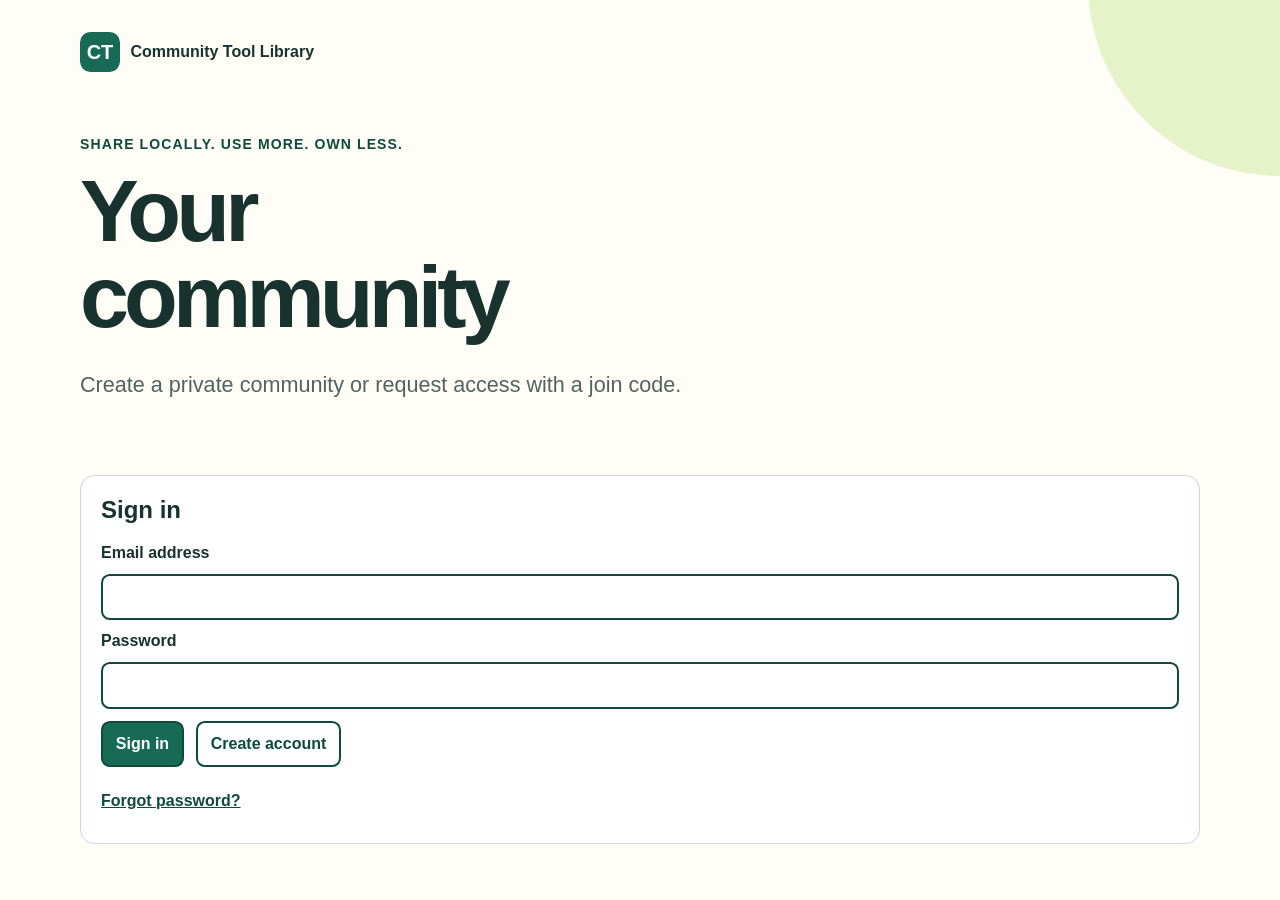
Test: CommunityPage › exposes an asynchronous authentication error as an alert
The width and height of the screenshot is (1280, 900).
In the field labelled "Email address": {"x": 640, "y": 597} [101, 574, 1179, 620], type "member@example.test"
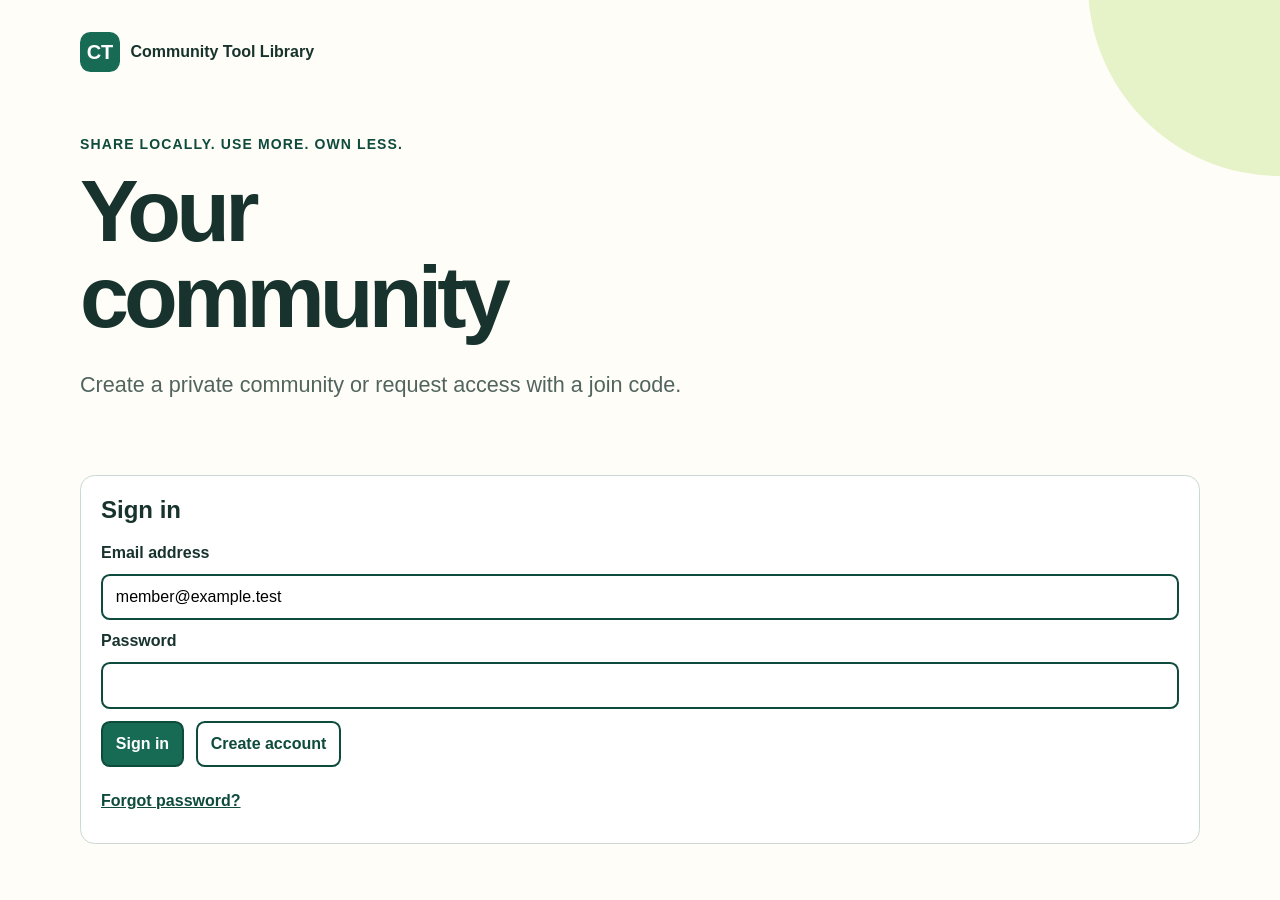
In the password field labelled "Password": {"x": 640, "y": 686} [101, 662, 1179, 709], type "synthetic-password"
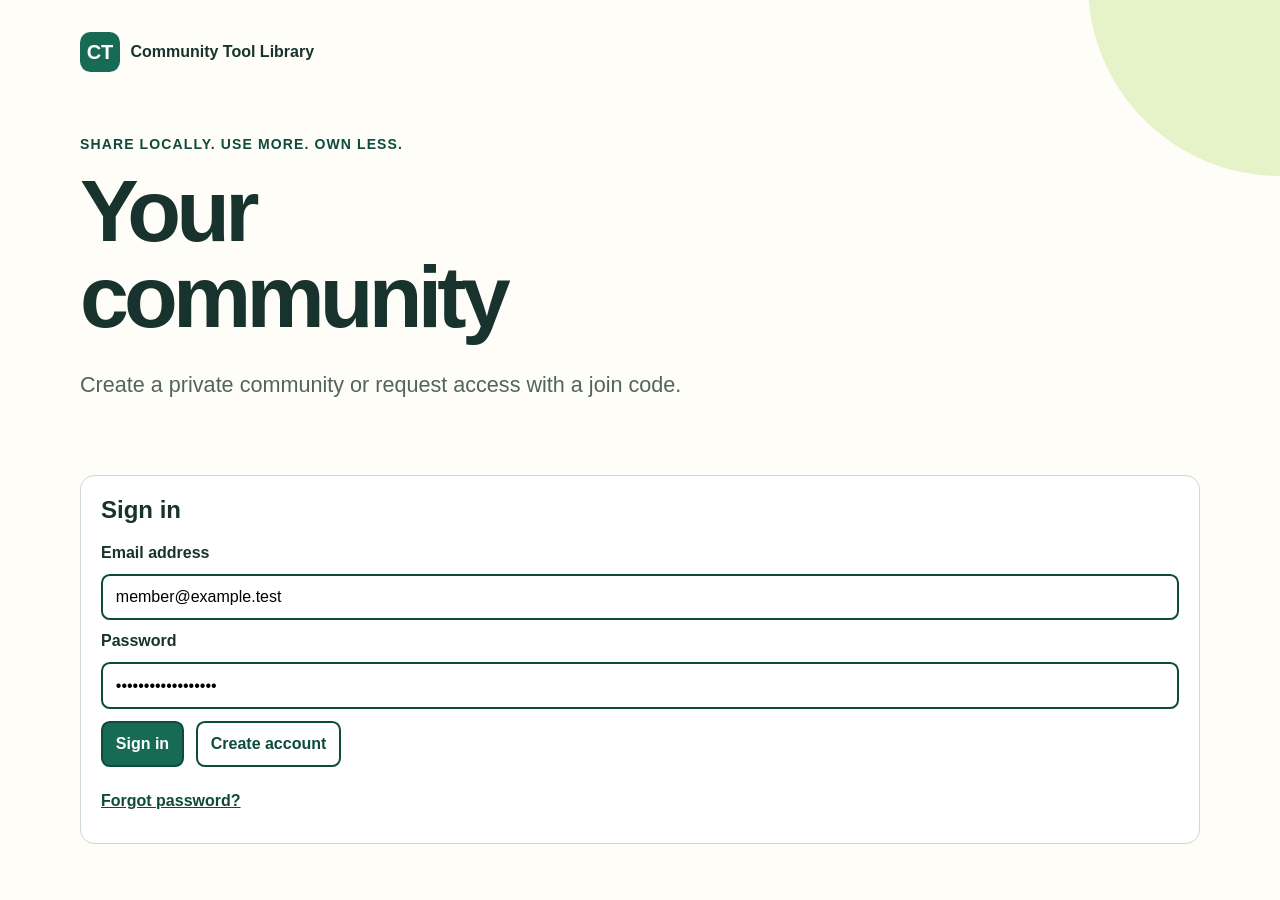
Click the button "Sign in": {"x": 142, "y": 744} [101, 721, 184, 767]
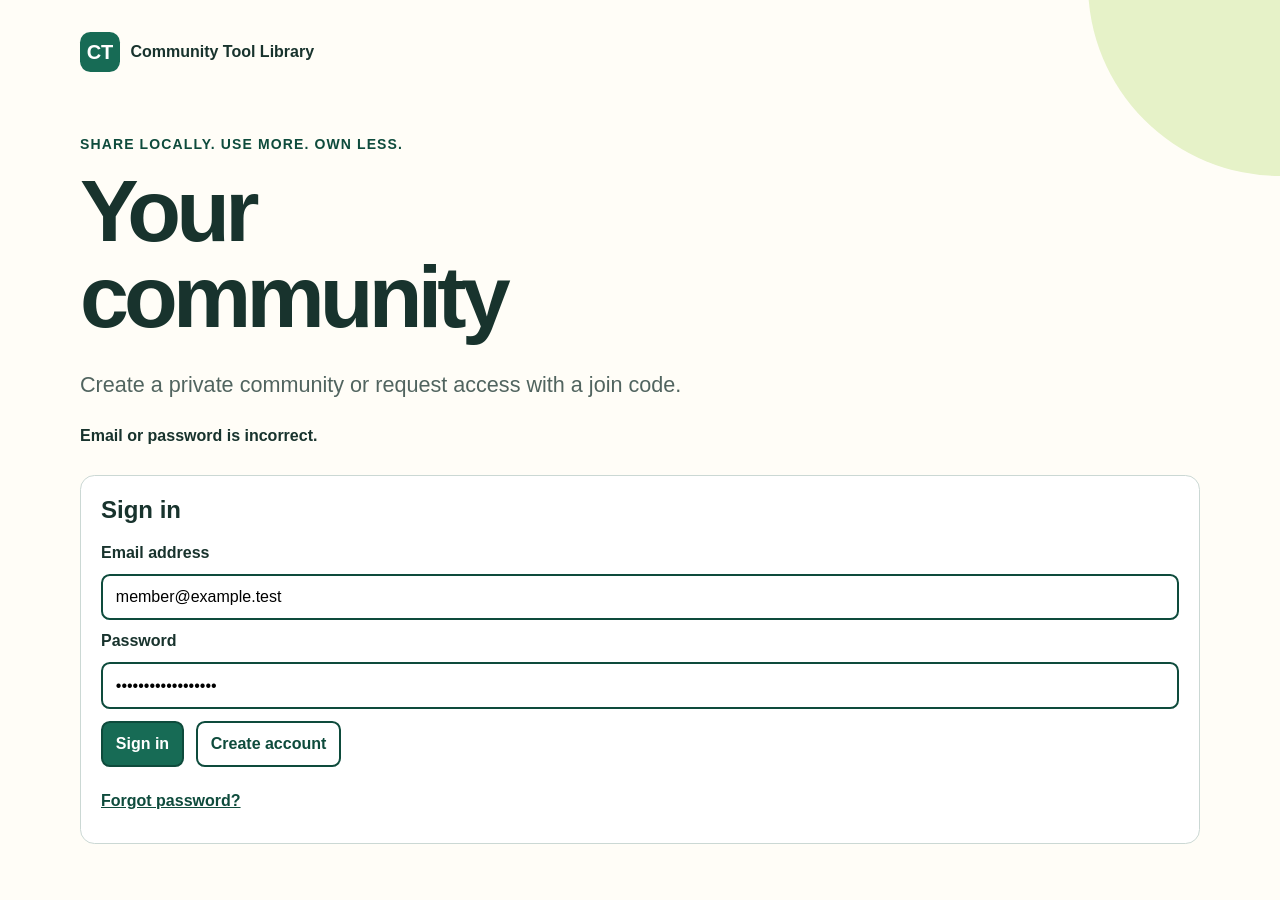
Result: the message reads "Email or password is incorrect." at [80, 427, 317, 444]
